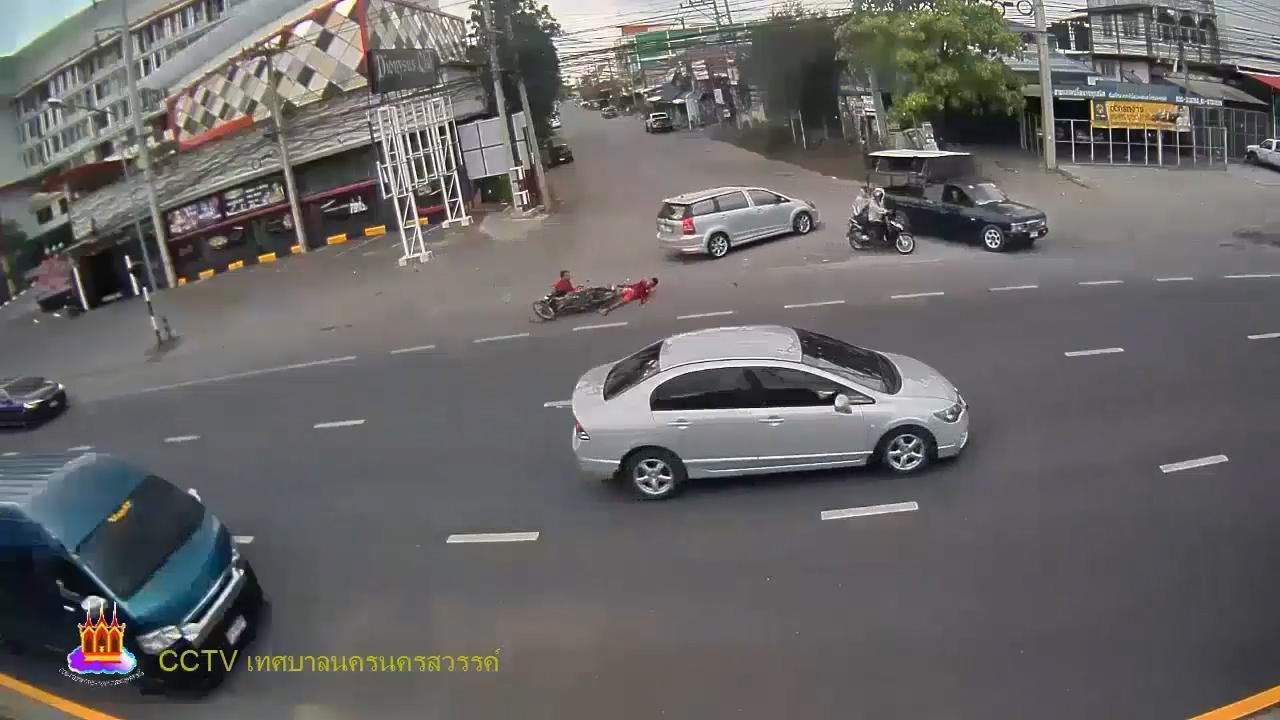accident: (599, 277, 662, 318)
